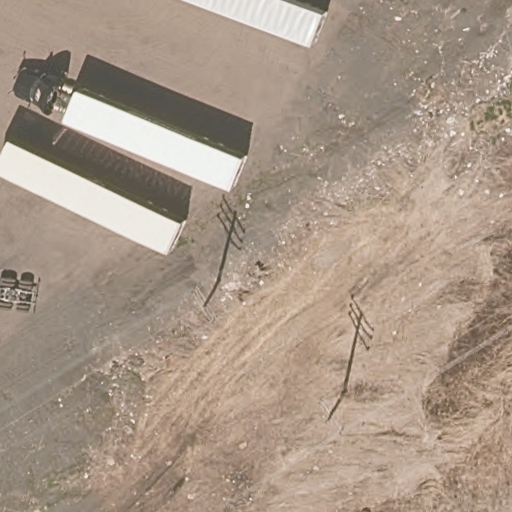DT: (190, 286, 218, 324), (319, 396, 345, 435)
